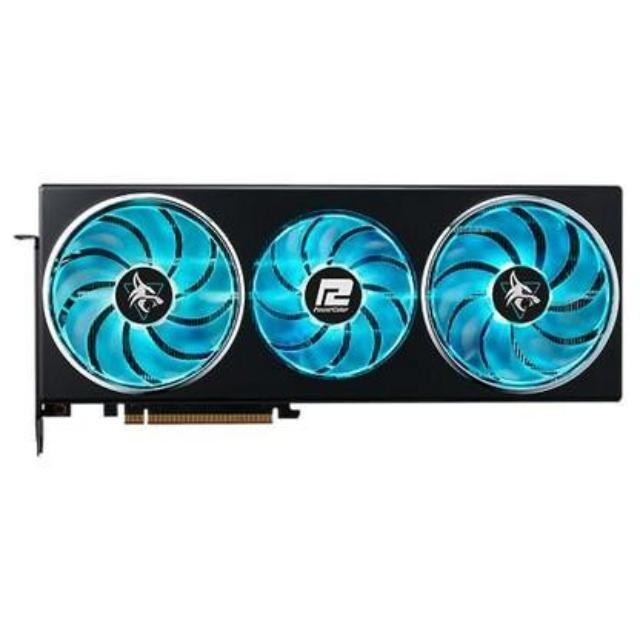GPU: (30, 171, 632, 431)
